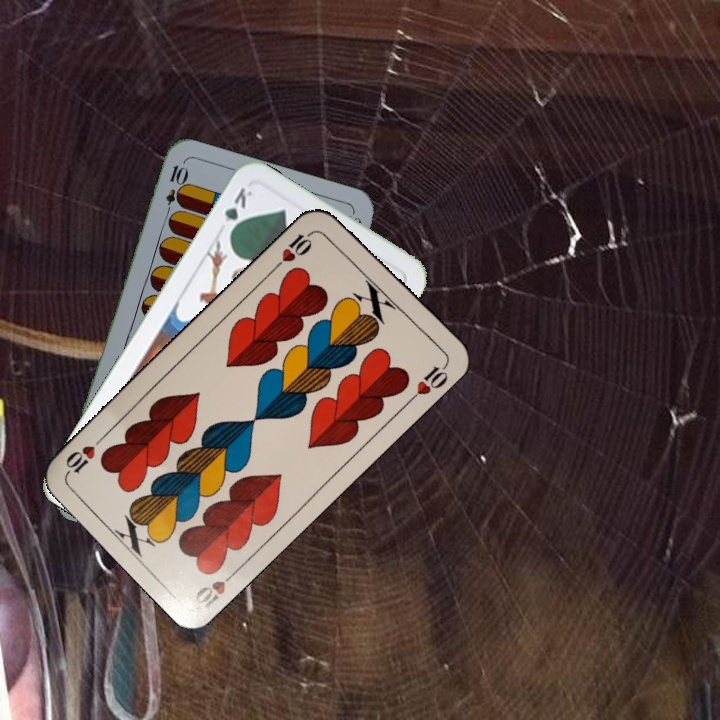E10: (161, 161, 188, 220)
GK: (220, 183, 255, 239)
H10: (191, 564, 242, 614), (271, 226, 318, 272)
